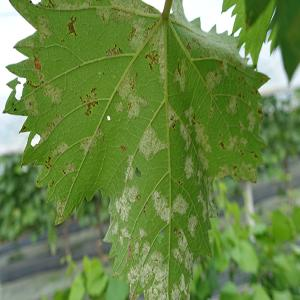Folha: (2, 0, 269, 298)
Fungo: (126, 231, 195, 300), (191, 115, 216, 178), (116, 72, 148, 121), (217, 155, 257, 186), (144, 253, 169, 300), (196, 176, 219, 225), (138, 124, 168, 161), (173, 233, 197, 277), (100, 0, 147, 22), (114, 184, 140, 222), (78, 126, 105, 158), (201, 60, 225, 96), (37, 112, 63, 144), (47, 0, 106, 13), (126, 263, 155, 289), (126, 92, 148, 122), (152, 189, 170, 223), (223, 90, 243, 118), (228, 128, 248, 156), (80, 86, 98, 116), (36, 14, 54, 42), (135, 231, 151, 262), (171, 277, 192, 300), (44, 82, 64, 106), (114, 194, 131, 222), (24, 90, 39, 120), (174, 60, 186, 92), (172, 193, 188, 215), (179, 121, 191, 150), (186, 213, 198, 238), (145, 49, 159, 70), (184, 153, 194, 179), (182, 103, 194, 123), (144, 20, 157, 38), (247, 109, 257, 132), (126, 184, 138, 203), (67, 15, 77, 36), (105, 44, 122, 56), (61, 160, 74, 174), (128, 26, 136, 42), (169, 114, 177, 130), (33, 57, 41, 70), (44, 156, 52, 169), (176, 60, 182, 76), (126, 244, 132, 260), (91, 86, 98, 98), (173, 226, 181, 236), (185, 42, 191, 53), (119, 144, 127, 152), (219, 140, 225, 150), (142, 204, 146, 215), (177, 179, 183, 185), (136, 194, 140, 202)
